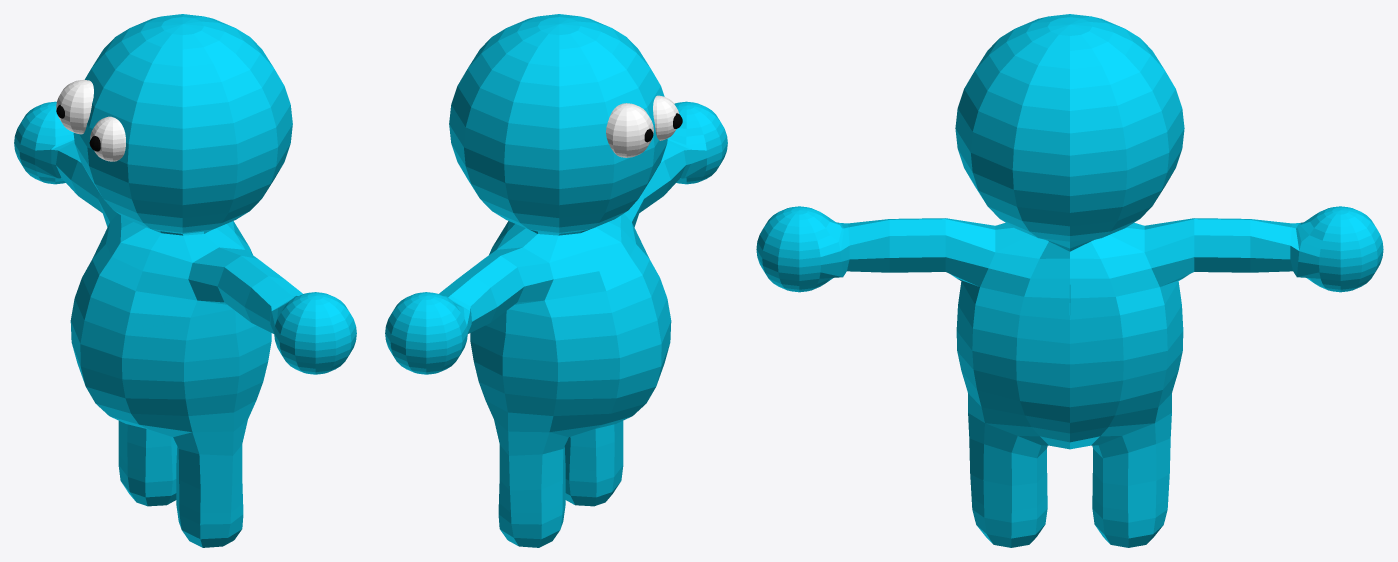
Rendered from hombreBolaS_N_Subdi.fbx.
3 views of the same model, side by side, from view 1: azimuth 30°, elevation 25°; view 2: azimuth 150°, elevation 25°; view 3: azimuth 270°, elevation 25° (orthographic). The views are drawn at different scales.
Parts seen in each view (by area): view 1: ojos; view 2: ojos; view 3: ojos.
Part boxes in pixels (x1,y1,x2,y2): ojos: (14,14,356,547); ojos: (385,14,727,547); ojos: (756,14,1383,547).
Bounding box in the file's own units: 104 × 239 × 265.
